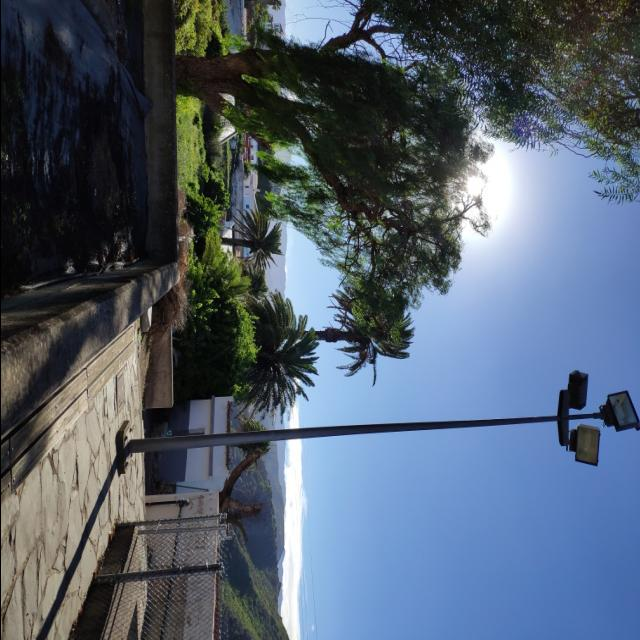Palm-Trees: (280, 282, 416, 388), (237, 294, 319, 428), (222, 210, 282, 274)
